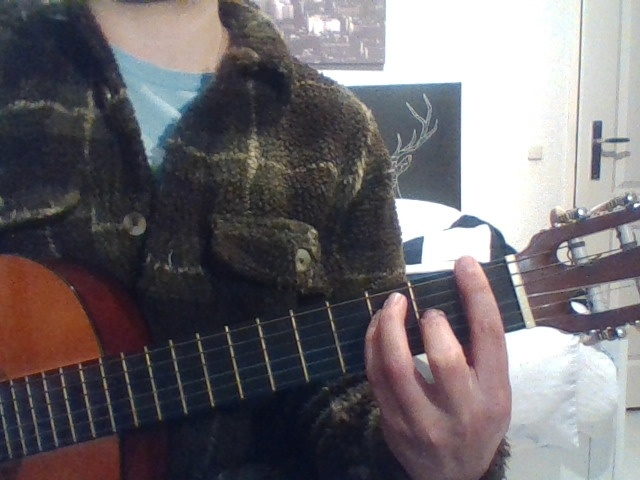F: (344, 247, 556, 480)
